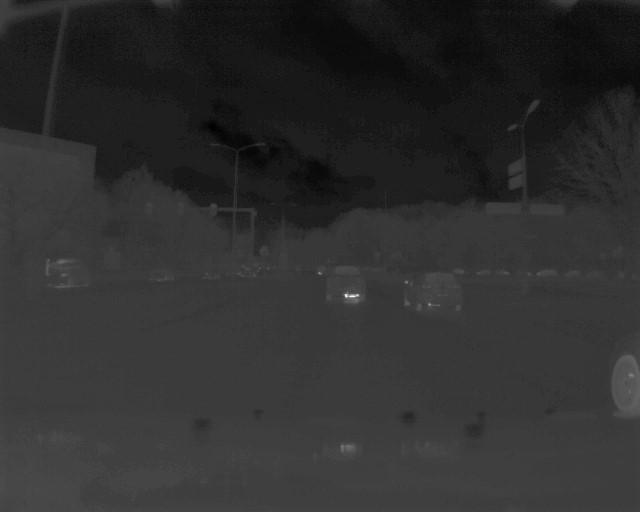car: (403, 272, 462, 312), (323, 263, 371, 303), (45, 256, 93, 289), (147, 264, 176, 282)
